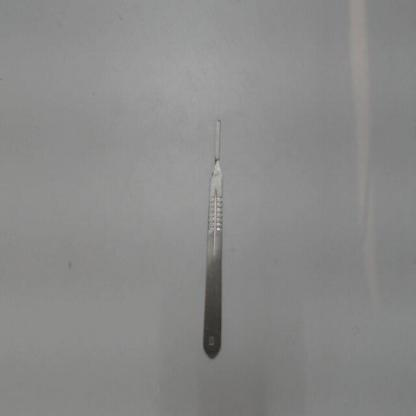No.4 BP Handle: (200, 111, 228, 367)
